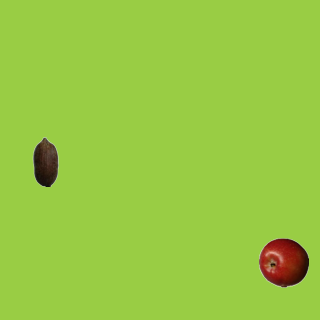Apple Braeburn: (258, 237, 308, 287)
Nut Pecan: (20, 136, 70, 186)
